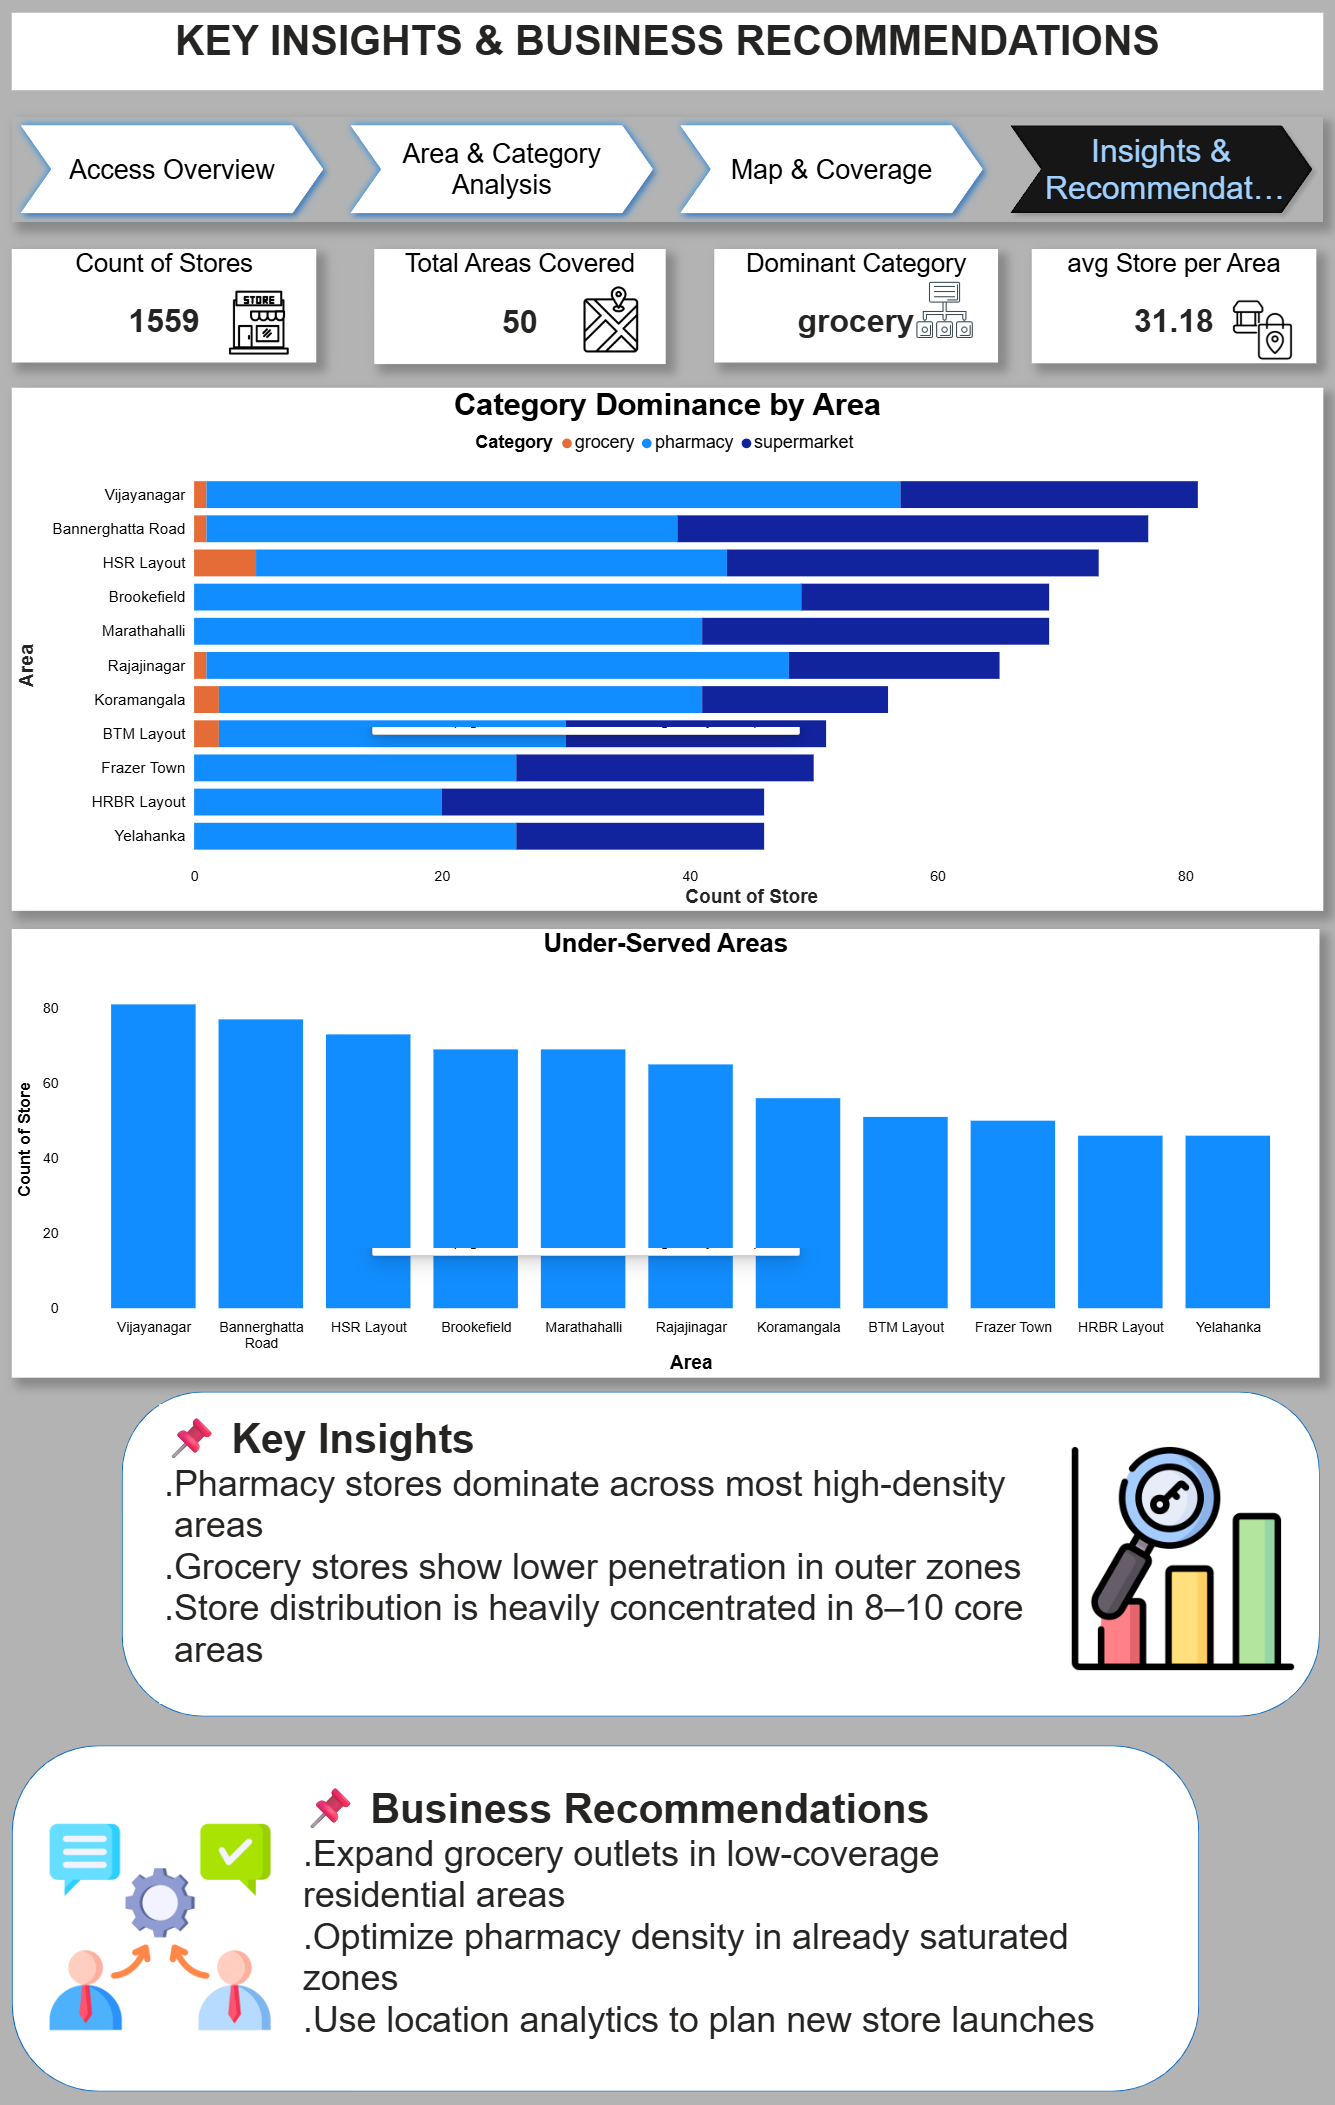

What the dashboard file says about the page in this screenshot:
{"tool":"powerbi","page":{"name":"Insights & Recommendation","canvas":[1400,2200],"ordinal":3},"visuals":[{"type":"card","title":"Count of Stores","fields":{"Values":["Bengaluru_Data.Count of Store"]},"box":[14.9,260.5,317.8,118.2],"z":0,"group":"g1"},{"type":"card","title":"Total Areas Covered","fields":{"Values":["Bengaluru_Data.Total Areas"]},"box":[392.5,260.5,303.7,119.7],"z":0,"group":"g2"},{"type":"card","title":"Dominant Category","fields":{"Values":["Min(Bengaluru_Data.Category)"]},"box":[747.2,260.5,296.1,118.2],"z":0,"group":"g3"},{"type":"card","title":"avg Store per Area","fields":{"Values":["Bengaluru_Data.Avg Stores per Area"]},"box":[1078.9,260.5,296.6,119.4],"z":0,"group":"g4"},{"type":"shape","box":[14.7,1821.1,1238.6,361.3],"z":0,"group":"g6"},{"type":"textbox","box":[14.7,14.7,1367.6,81.1],"z":1000},{"type":"image","box":[581.3,288,115.4,92.4],"z":1000,"group":"g2"},{"type":"image","box":[930.5,289.6,112.6,69.3],"z":1000,"group":"g3"},{"type":"image","box":[211.7,295.5,121,83.2],"z":1000,"group":"g1"},{"type":"image","box":[1263.2,312,114.1,67.3],"z":1000,"group":"g4"},{"type":"barChart","title":"Category Dominance by Area","fields":{"Category":["Bengaluru_Data.Area"],"Series":["Bengaluru_Data.Category"],"Y":["Bengaluru_Data.Count of Store"]},"box":[14.7,405.5,1367.6,545.6],"z":2000},{"type":"clusteredColumnChart","title":"Under-Served Areas","fields":{"Category":["Bengaluru_Data.Area"],"Y":["Bengaluru_Data.Count of Store"]},"box":[14.7,969.5,1363.9,468.2],"z":3000},{"type":"group","id":"g1","title":"Group 1","box":[14.9,260.5,317.9,118.2],"z":4000},{"type":"group","id":"g2","title":"Group 1","box":[392.5,260.5,304.1,119.4],"z":5000},{"type":"group","id":"g3","title":"Group 1","box":[747.2,260.5,296.1,118.2],"z":6000},{"type":"shape","box":[129,1452.4,1249.7,339.1],"z":6500,"group":"g8"},{"type":"group","id":"g4","title":"Group 1","box":[1078.9,260.5,298.4,119.4],"z":7000},{"type":"textbox","box":[167.7,1465.3,1023.5,312.5],"z":8000,"group":"g8"},{"type":"textbox","box":[313.1,1851.5,888.3,318.5],"z":9000,"group":"g5"},{"type":"image","box":[14.7,1891.2,309.9,240.9],"z":9002,"group":"g5"},{"type":"group","id":"g5","title":"Group 2","box":[14.7,1851.5,1186.6,318.5],"z":9003,"group":"g6"},{"type":"group","id":"g6","title":"Group 3","box":[14.7,1821.1,1238.6,361.3],"z":9005},{"type":"image","box":[1120,1465.2,232.3,322.4],"z":9007,"group":"g8"},{"type":"group","id":"g7","title":"Group 4","box":[129,1452.4,1249.7,339.1],"z":9008},{"type":"pageNavigator","box":[15,122.4,1367.3,110.6],"z":9009},{"type":"group","id":"g8","title":"Group 5","box":[129,1452.4,1249.7,339.1],"z":9009,"group":"g7"}]}

Visuals, with their boxes in screenshot pixels (x1, y1, x2, y2), scaled from the page's 1400x2200 canvas onto the 1335x2105 screenshot:
"Count of Stores" card: (left=14, top=249, right=317, bottom=362)
"Total Areas Covered" card: (left=374, top=249, right=664, bottom=364)
"Dominant Category" card: (left=713, top=249, right=995, bottom=362)
"avg Store per Area" card: (left=1029, top=249, right=1312, bottom=363)
shape: (left=14, top=1742, right=1195, bottom=2088)
textbox: (left=14, top=14, right=1318, bottom=92)
image: (left=554, top=276, right=664, bottom=364)
image: (left=887, top=277, right=995, bottom=343)
image: (left=202, top=283, right=317, bottom=362)
image: (left=1205, top=299, right=1313, bottom=363)
"Category Dominance by Area" barChart: (left=14, top=388, right=1318, bottom=910)
"Under-Served Areas" clusteredColumnChart: (left=14, top=928, right=1315, bottom=1376)
"Group 1" group: (left=14, top=249, right=317, bottom=362)
"Group 1" group: (left=374, top=249, right=664, bottom=363)
"Group 1" group: (left=713, top=249, right=995, bottom=362)
shape: (left=123, top=1390, right=1315, bottom=1714)
"Group 1" group: (left=1029, top=249, right=1313, bottom=363)
textbox: (left=160, top=1402, right=1136, bottom=1701)
textbox: (left=299, top=1772, right=1146, bottom=2076)
image: (left=14, top=1810, right=310, bottom=2040)
"Group 2" group: (left=14, top=1772, right=1146, bottom=2076)
"Group 3" group: (left=14, top=1742, right=1195, bottom=2088)
image: (left=1068, top=1402, right=1290, bottom=1710)
"Group 4" group: (left=123, top=1390, right=1315, bottom=1714)
pageNavigator: (left=14, top=117, right=1318, bottom=223)
"Group 5" group: (left=123, top=1390, right=1315, bottom=1714)
